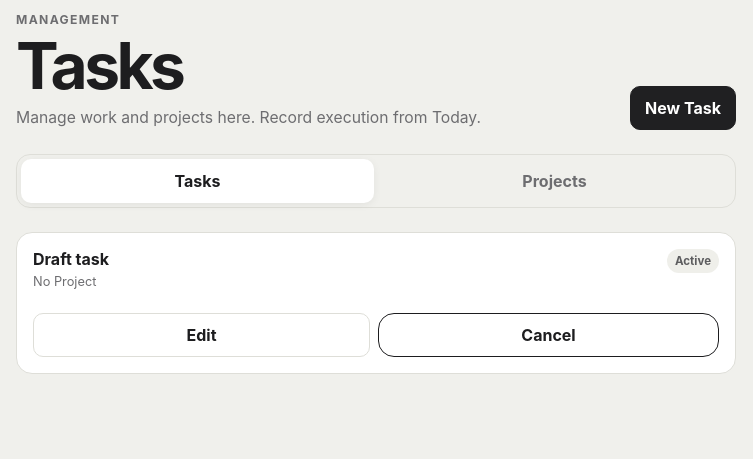
Test: Task + Project management surface › cancels a task through a dedicated soft lifecycle action
What coordinates should you click on to do the following:
click the button "Cancel"
I would click on:
 (548, 335)
Its box is [378,313,719,357].
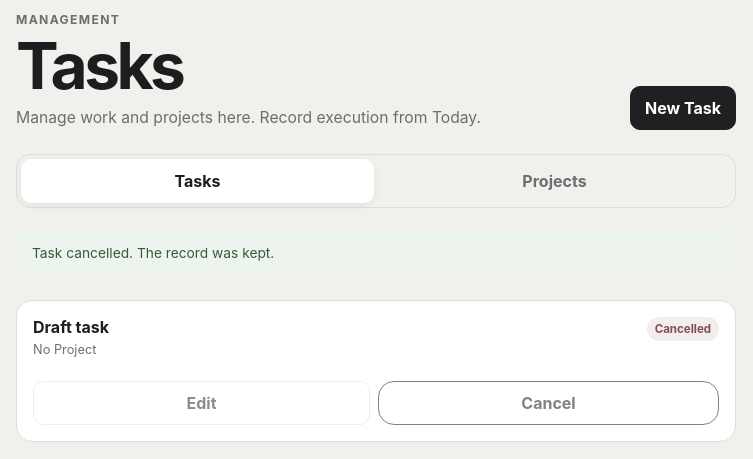
Expected: the text "Task cancelled. The record was kept." is shown, [16,232,736,276]
Expected: the text "cancelled" is shown, [647,317,719,341]
